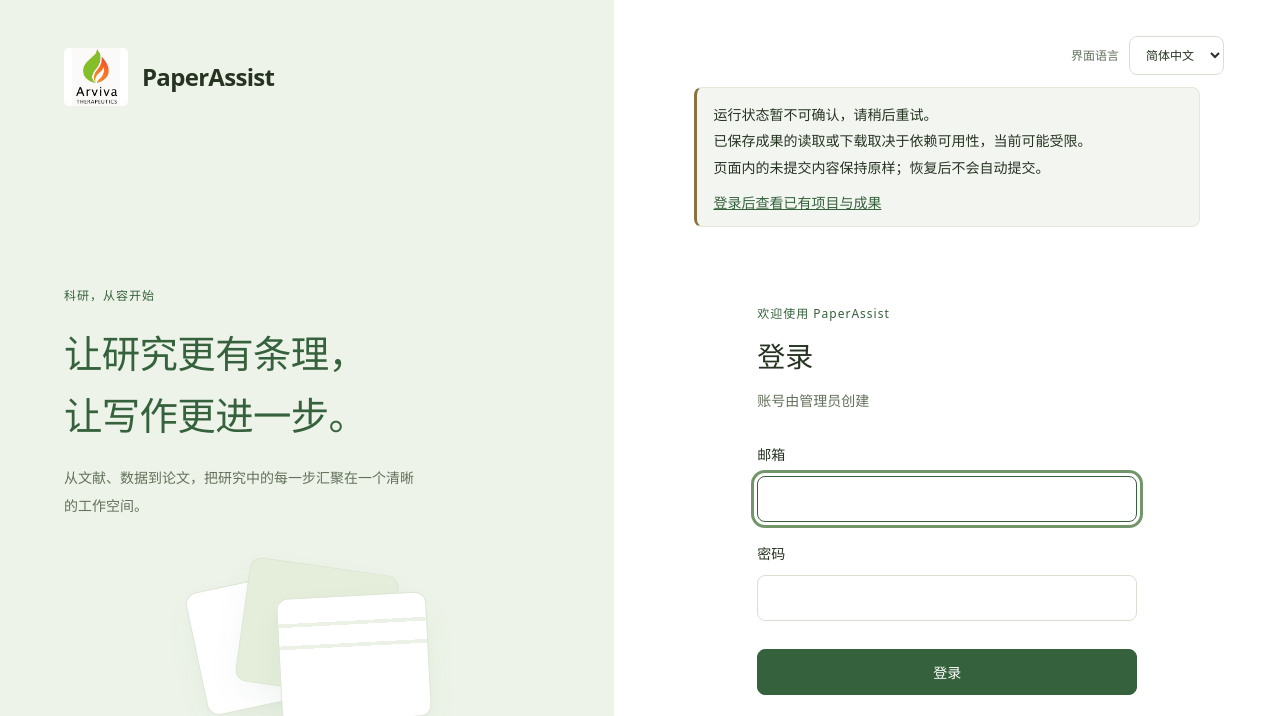
Test case: aborts pending login after external account change and adopts only reconciled cookie truth
In the field labelled "邮箱": {"x": 947, "y": 499} [757, 476, 1137, 522], type "a@example.test"
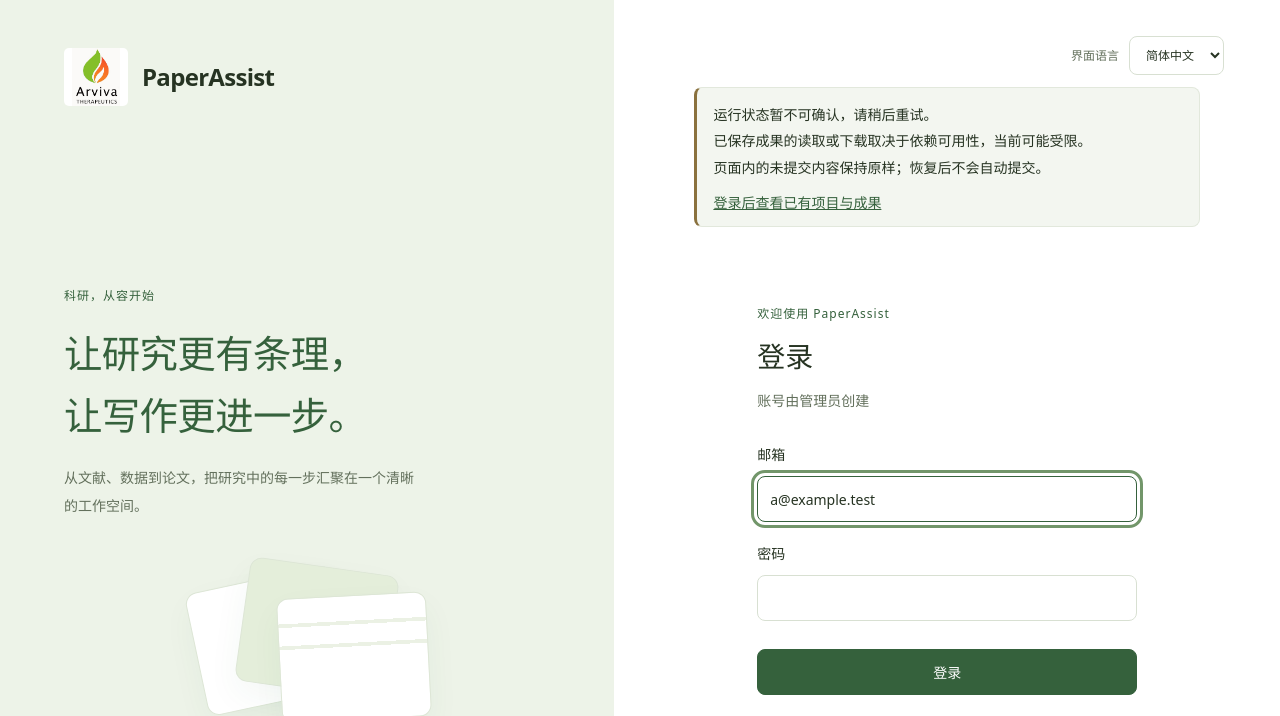
In the password field labelled "密码": {"x": 947, "y": 598} [757, 575, 1137, 621], type "synthetic-password"
(page scrolled)
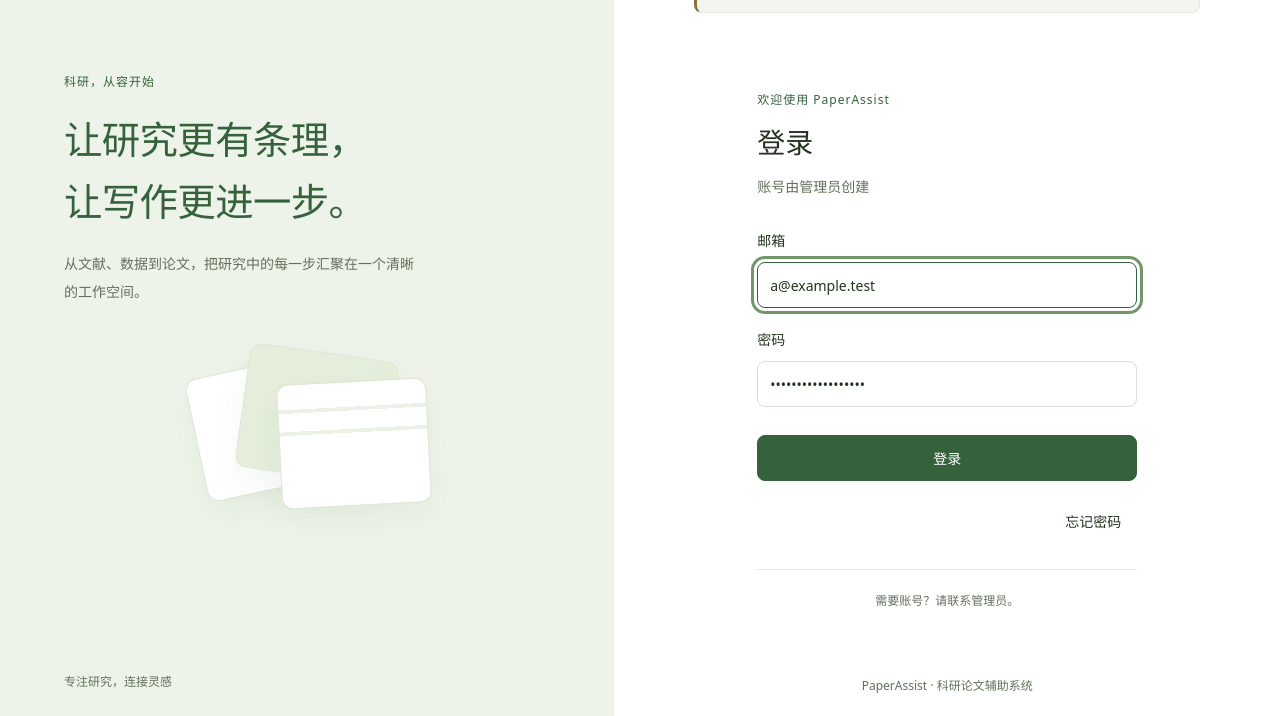
Submit the form labelled "密码", box [757, 229, 1137, 541]
(page scrolled)
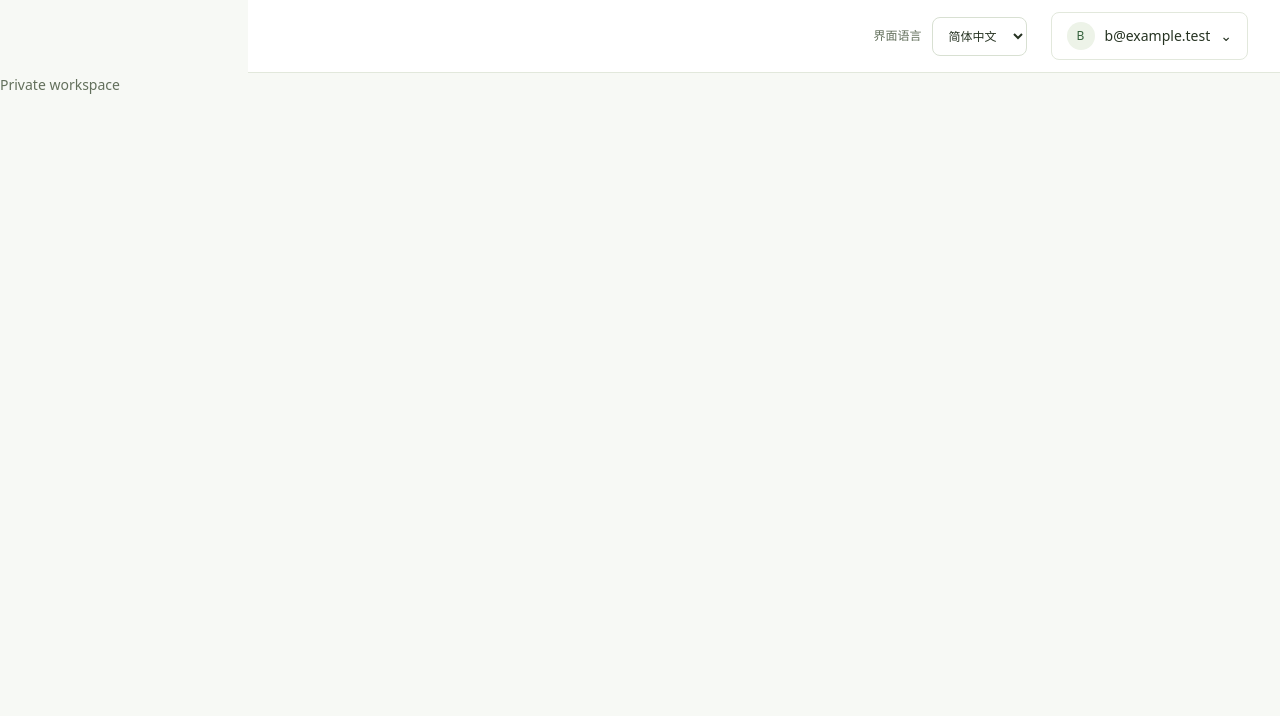
Expected: the text "a@example.test" is not shown
Expected: the text "b@example.test" is shown, [1104, 26, 1210, 46]
